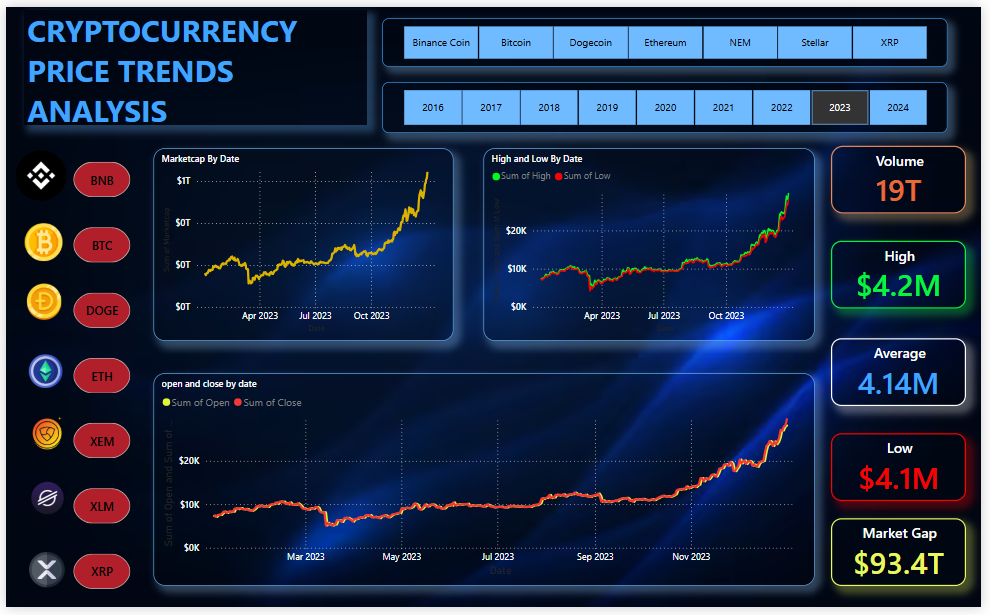

The page's visual inventory and layout, read from the dashboard file:
{"tool":"powerbi","page":{"name":"Page 1","canvas":[1300,800],"ordinal":0},"visuals":[{"type":"image","box":[21.1,354.4,58.9,75.6],"z":0},{"type":"image","box":[22.9,288.6,52.9,50],"z":1000},{"type":"image","box":[21.4,538.6,65.7,60],"z":2000},{"type":"image","box":[8.3,180,76.7,90],"z":3000},{"type":"image","box":[21.4,458.6,62.9,54.3],"z":4000},{"type":"image","box":[23.3,628.3,63.3,53.3],"z":5000},{"type":"image","box":[21.4,715.7,65.7,70],"z":6000},{"type":"slicer","fields":{"Values":["crypto trend data.Year"]},"box":[501.7,100,753.3,68.3],"z":7000},{"type":"card","title":"Volume","fields":{"Values":["Sum(crypto trend data.Volume)"]},"box":[1100,184.3,180,90],"z":8000},{"type":"card","title":"High","fields":{"Values":["Sum(crypto trend data.High)"]},"box":[1100,311.4,180,90],"z":9000},{"type":"card","title":"Average","fields":{"Values":["Sum(crypto trend data.Average)"]},"box":[1100,441.4,180,90],"z":10000},{"type":"card","title":"Low","fields":{"Values":["Sum(crypto trend data.Low)"]},"box":[1100,568.6,180,90],"z":11000},{"type":"card","title":"Market Gap","fields":{"Values":["Sum(crypto trend data.Marketcap)"]},"box":[1100,681.4,180,90],"z":12000},{"type":"shape","box":[1394.4,155.7,30,28.6],"z":13000},{"type":"shape","box":[1394.4,288.6,25.7,12.9],"z":14000},{"type":"shape","box":[1394.4,411.4,25.7,30],"z":15000},{"type":"lineChart","title":"open and close by date","fields":{"Category":["crypto trend data.Date"],"Y":["Sum(crypto trend data.Open)","Sum(crypto trend data.Close)"]},"box":[197.1,488.6,881.4,282.9],"z":16000},{"type":"lineChart","title":"High and Low By Date","fields":{"Y":["Sum(crypto trend data.High)","Sum(crypto trend data.Low)"],"Category":["crypto trend data.Date"]},"box":[637.1,188.6,441.4,257.1],"z":17000},{"type":"lineChart","title":"Marketcap By Date","fields":{"Category":["crypto trend data.Date"],"Y":["Sum(crypto trend data.Marketcap)"]},"box":[197.1,188.6,400,257.1],"z":18000},{"type":"slicer","fields":{"Values":["crypto trend data.Name"]},"box":[501.7,15,753.3,65],"z":19000},{"type":"advancedSlicerVisual","fields":{"Values":["crypto trend data.Symbol"]},"box":[85,201.7,86.7,583.3],"z":20000},{"type":"textbox","title":"CRYPTOCURRENCY PRICE TRENDS ANALYSIS","box":[23.3,3.3,458.3,153.3],"z":21000}]}

Visuals, with their boxes in screenshot pixels (x1, y1, x2, y2), scaled from the page's 1300x800 canvas onto the 990x615 screenshot:
image: x1=16, y1=272, x2=61, y2=331
image: x1=17, y1=222, x2=58, y2=260
image: x1=16, y1=414, x2=66, y2=460
image: x1=6, y1=138, x2=65, y2=208
image: x1=16, y1=353, x2=64, y2=394
image: x1=18, y1=483, x2=66, y2=524
image: x1=16, y1=550, x2=66, y2=604
slicer - crypto trend data.Year: x1=382, y1=77, x2=956, y2=129
"Volume" card: x1=838, y1=142, x2=975, y2=211
"High" card: x1=838, y1=239, x2=975, y2=309
"Average" card: x1=838, y1=339, x2=975, y2=409
"Low" card: x1=838, y1=437, x2=975, y2=506
"Market Gap" card: x1=838, y1=524, x2=975, y2=593
"open and close by date" lineChart: x1=150, y1=376, x2=821, y2=593
"High and Low By Date" lineChart: x1=485, y1=145, x2=821, y2=343
"Marketcap By Date" lineChart: x1=150, y1=145, x2=455, y2=343
slicer - crypto trend data.Name: x1=382, y1=12, x2=956, y2=62
advancedSlicerVisual - crypto trend data.Symbol: x1=65, y1=155, x2=131, y2=603
"CRYPTOCURRENCY PRICE TRENDS ANALYSIS" textbox: x1=18, y1=3, x2=367, y2=120
